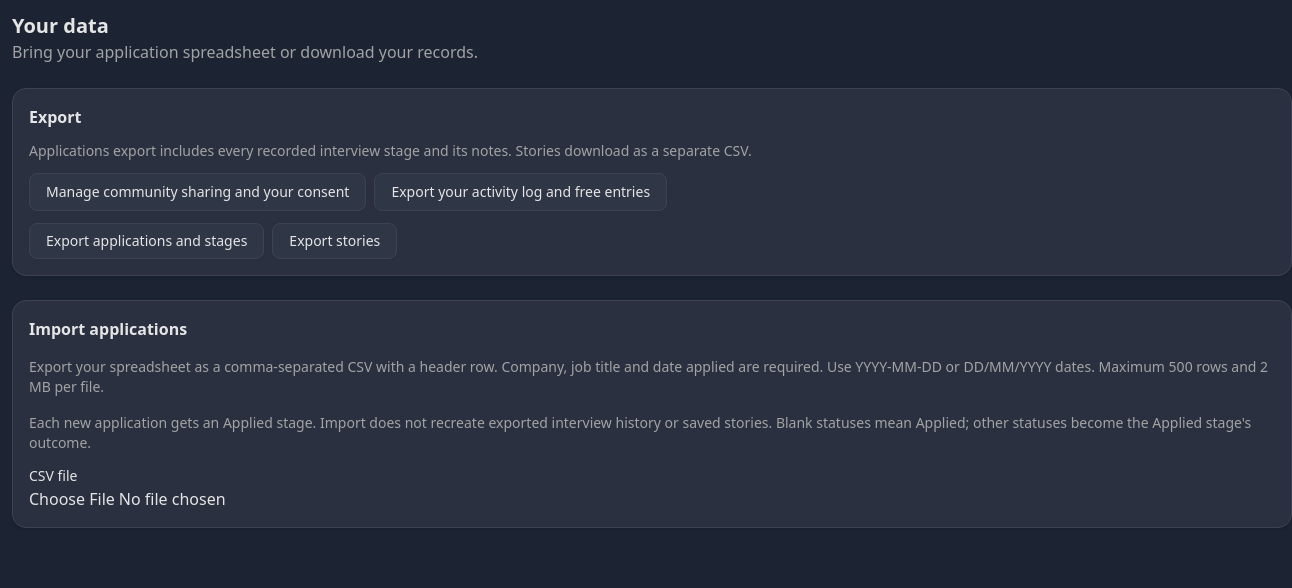
Test case: data transfer UI › shows failed downloads without starting a file download
Click the button "Export stories".
click(335, 241)  # box [272, 223, 397, 259]
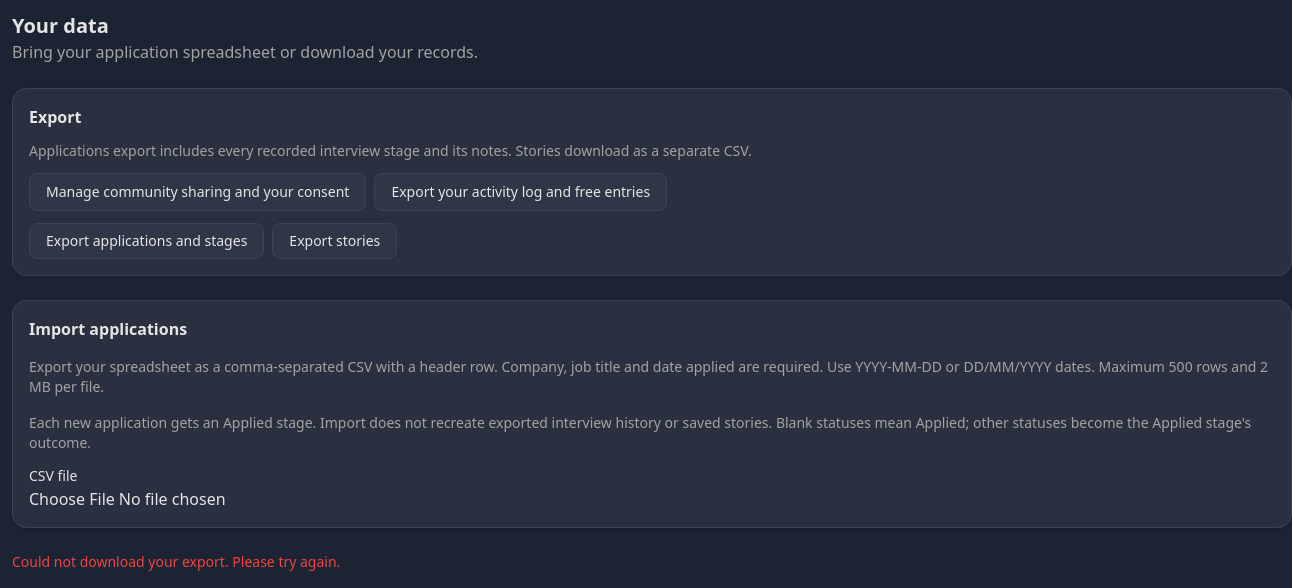
Expected: the message shows "Could not download your export", [12, 552, 340, 571]
